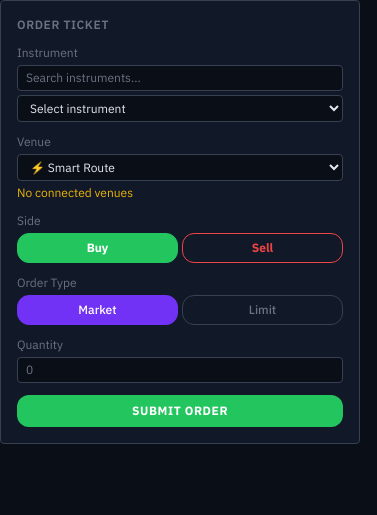
OrderTicket › blocks submission when no connected venues are available
Select "BTC/USD - Bitcoin" in the dropdown labelled "Instrument" at (180, 108), box 17,95 -> 343,122
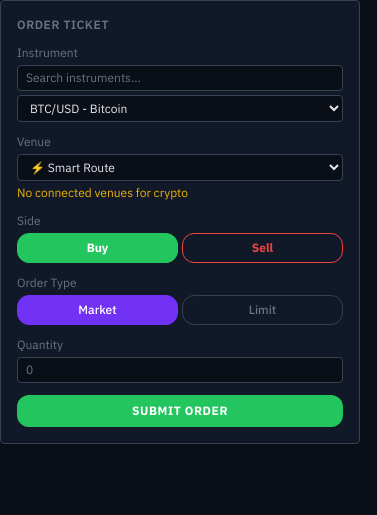
Type "5" into the number field labelled "Quantity" at (180, 370), box 17,357 -> 343,383
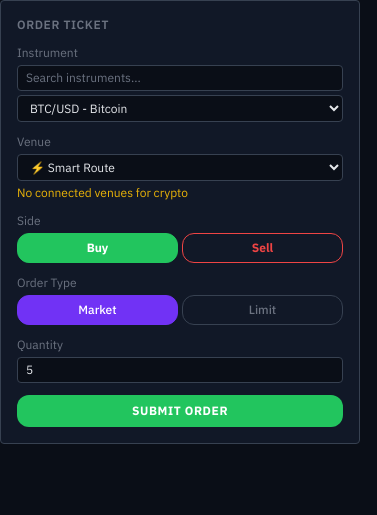
Click the button "Submit Order" at (180, 411), box 17,395 -> 343,427
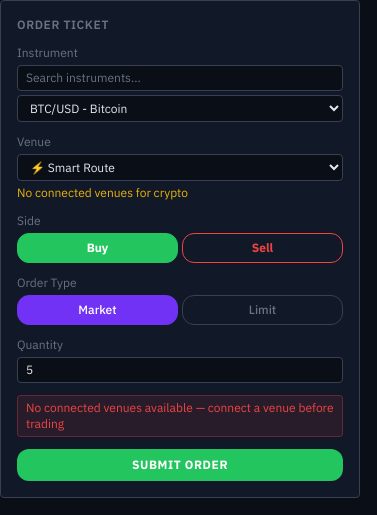
expect the text "No connected venues available — connect a venue before trading" is shown: met, box 17,395 -> 343,437
